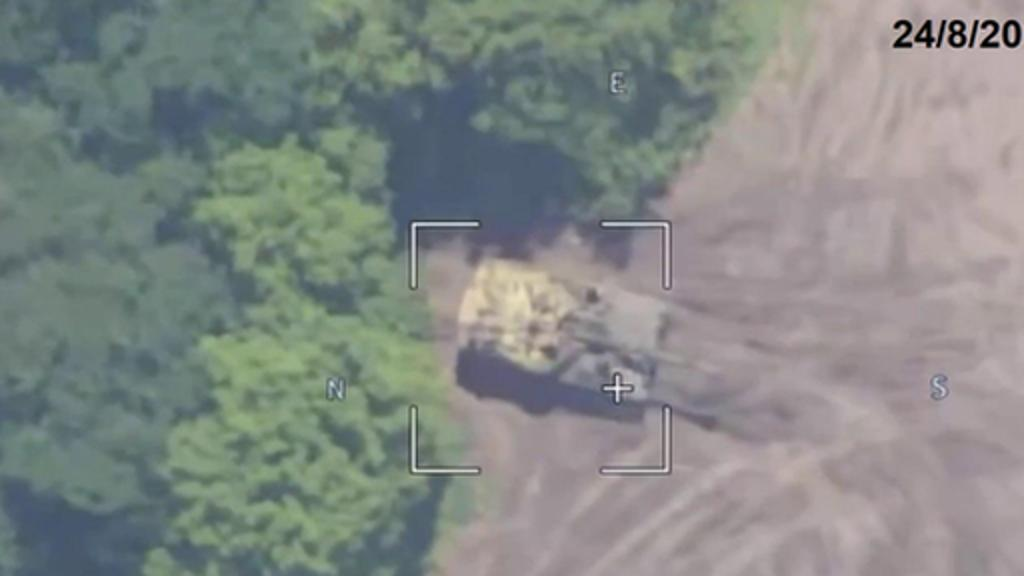ART: (450, 248, 668, 406)
